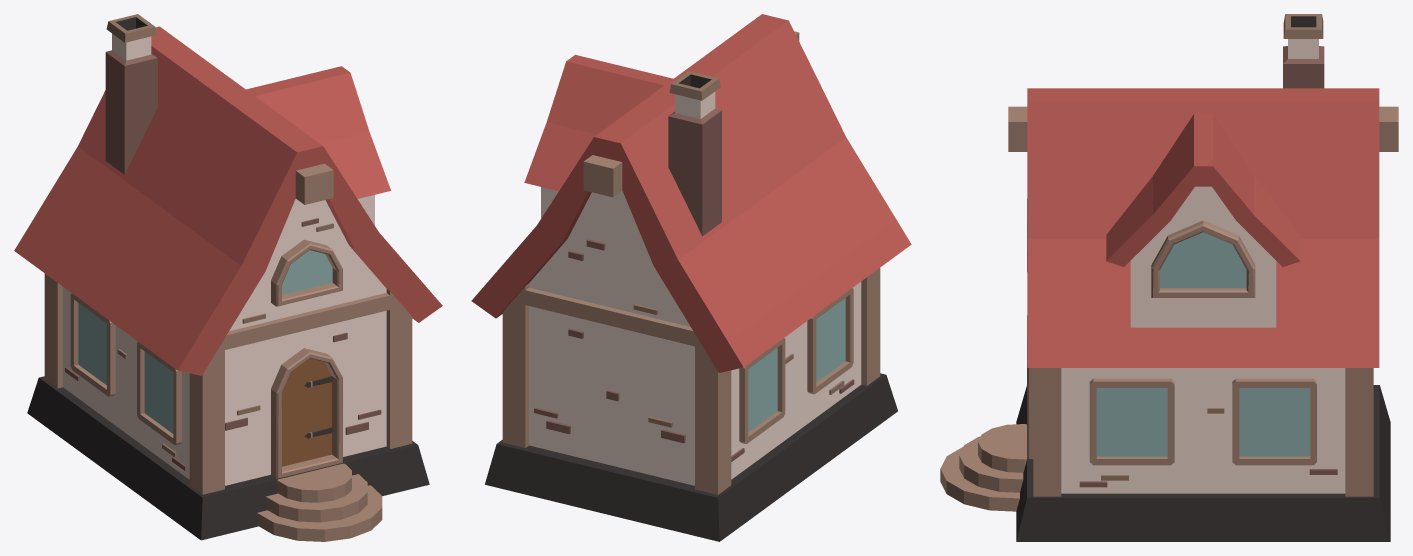
File: House_3.FBX
The picture shows the model from 3 angles, left to right: view 1: azimuth 30°, elevation 25°; view 2: azimuth 150°, elevation 25°; view 3: azimuth 270°, elevation 25°; orthographic projection. The views are drawn at different scales.
Visible parts, largest first — view 1: house 3; view 2: house 3; view 3: house 3.
Boxes of the visible parts, x1,y1,x2,y2 form: house 3: [14, 14, 442, 541]; house 3: [471, 14, 911, 541]; house 3: [940, 14, 1398, 541].
Size of the model in its own units: 210 by 305 by 292.
